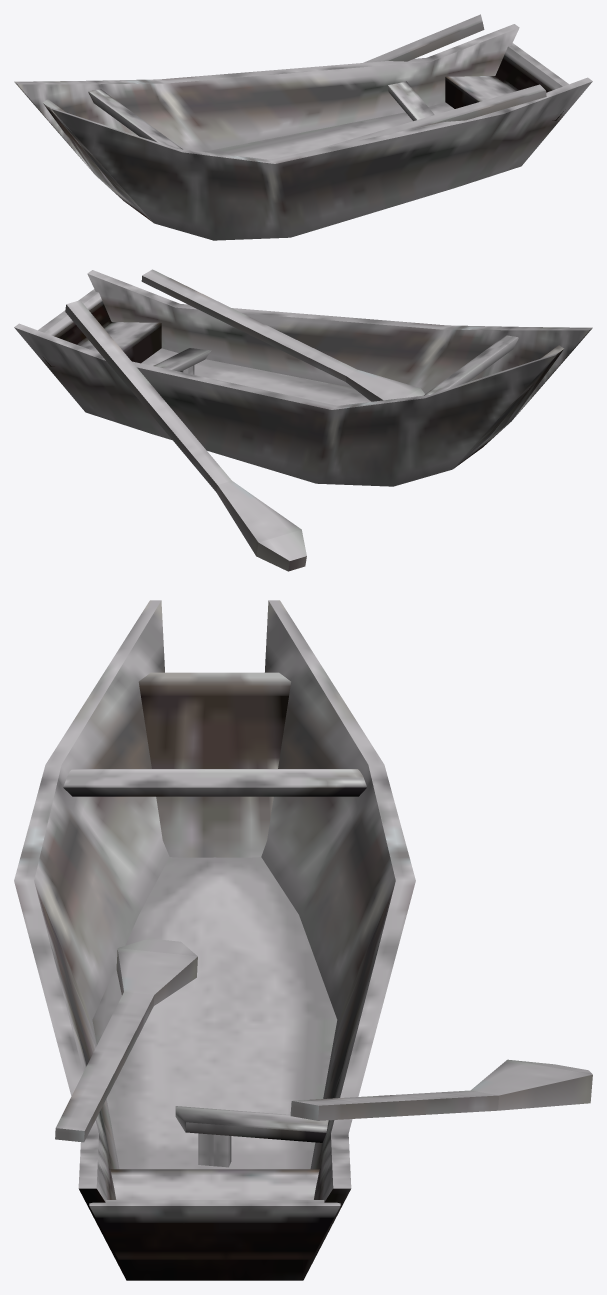
File: general_obj_ferryboat02.glb
3 renders of one model, top to bottom at view 1: azimuth 30°, elevation 25°; view 2: azimuth 150°, elevation 25°; view 3: azimuth 270°, elevation 25°, orthographic. The views are drawn at different scales.
Visible parts, largest first — view 1: Object10; view 2: Object10; view 3: Object10.
Boxes of the visible parts, box(x1,y1,x2,y2) form: Object10: box(14, 14, 592, 240); Object10: box(14, 269, 592, 571); Object10: box(14, 600, 592, 1280).
Size of the model in its own units: 4.77 by 1.71 by 2.64.
1 material, 1 textured.
